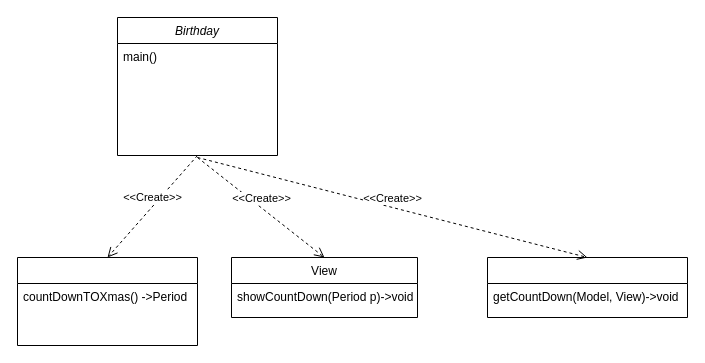
Image size: 705x363. Some labels were removed from this diagram. The shapes that lost their labels are listed below. From the top down, each one's box as (x1, y1, x2, y2) in pixels, then its label:
(16, 256, 198, 346): Model
(486, 256, 688, 318): Controller
